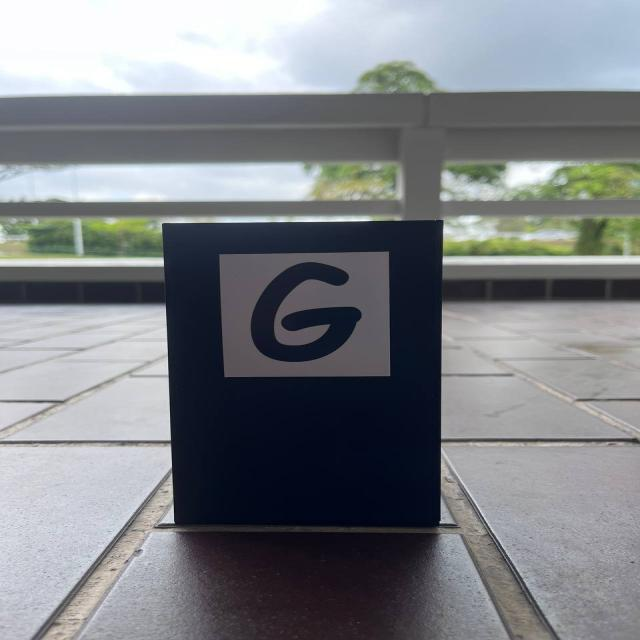G_id26: (222, 254, 391, 378)
